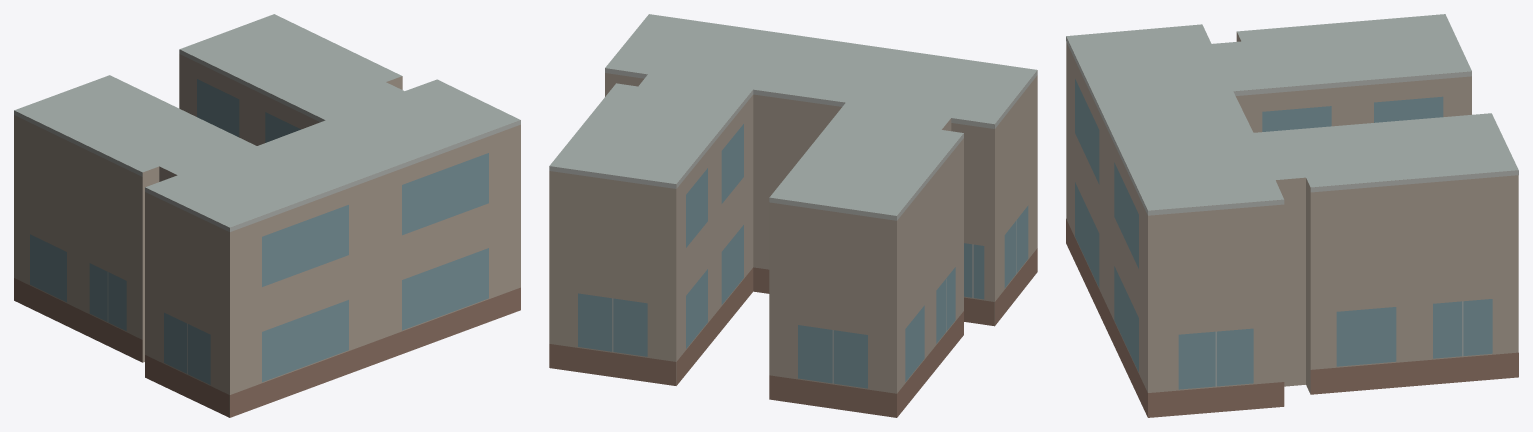
File: survey-upis-32853150.glb
3 views of the same model, side by side, from view 1: azimuth 30°, elevation 25°; view 2: azimuth 150°, elevation 25°; view 3: azimuth 270°, elevation 25° (orthographic). The views are drawn at different scales.
Visible parts, largest first — view 1: survey-upis-32853150.tmp; view 2: survey-upis-32853150.tmp; view 3: survey-upis-32853150.tmp.
Part boxes in pixels (<box>): survey-upis-32853150.tmp: <box>14,14,520,417</box>; survey-upis-32853150.tmp: <box>549,14,1037,417</box>; survey-upis-32853150.tmp: <box>1066,14,1518,417</box>.
Bounding box in the file's own units: 20.65 × 10.14 × 20.08.
